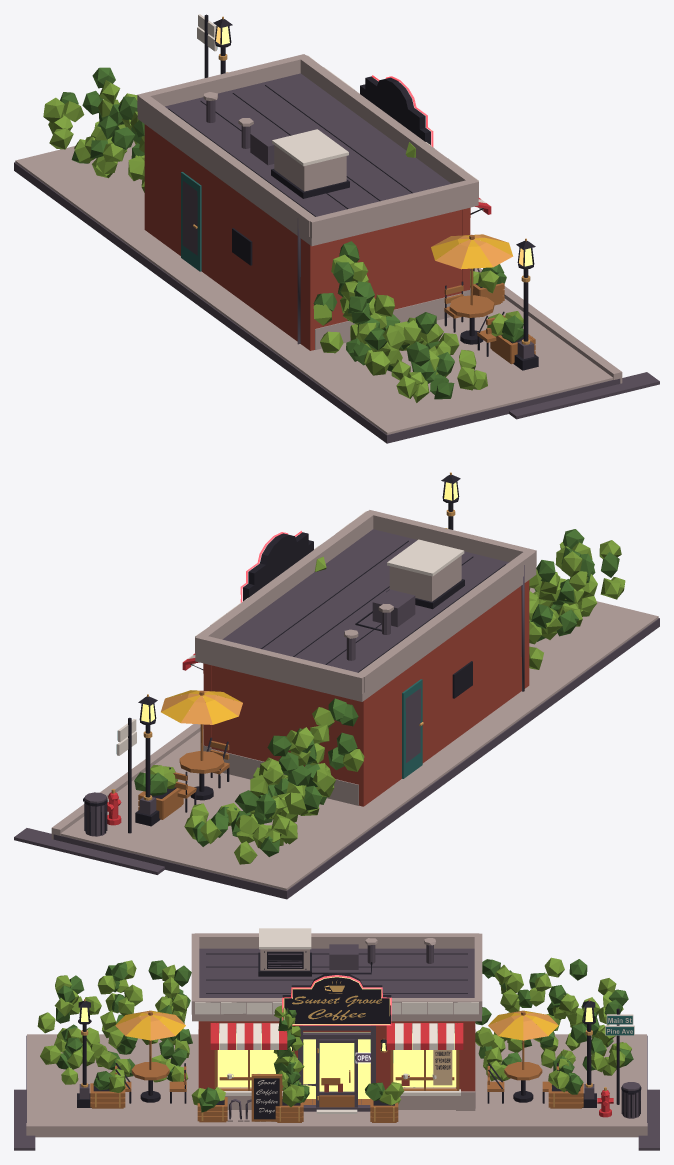
3 views of the same model, one above another, from view 1: azimuth 30°, elevation 25°; view 2: azimuth 150°, elevation 25°; view 3: azimuth 270°, elevation 25° (orthographic). The views are drawn at different scales.
Parts seen in each view (by area): view 1: body_pal_sidewalk, body_pal_brick, roof_pal_sidewalk, roof_pal_asphalt, body_pal_foliage, body_pal_asphalt, body_pal_foliageDark, roof_pal_uiDark, body_pal_uiDark, body_pal_woodWarm, roof_pal_picketWhite, body_pal_orange (+2 smaller); view 2: body_pal_sidewalk, body_pal_brick, roof_pal_sidewalk, roof_pal_asphalt, body_pal_foliage, body_pal_asphalt, body_pal_foliageDark, body_pal_uiDark, roof_pal_uiDark, body_pal_woodWarm, roof_pal_picketWhite, body_pal_schoolBusYellow (+2 smaller); view 3: body_pal_sidewalk, body_pal_foliage, roof_pal_asphalt, body_pal_foliageDark, roof_pal_sidewalk, roof_pal_uiDark, body_pal_woodWarm, body_pal_asphalt, body_pal_uiDark, body_pal_brick, body_pal_picketWhite, roof_pal_picketWhite (+15 smaller).
Boxes of the visible parts, x1,y1,x2,y2 form: body_pal_sidewalk: (15,140,622,434); body_pal_brick: (144,124,470,350); roof_pal_sidewalk: (137,54,478,246); roof_pal_asphalt: (165,73,451,216); body_pal_foliage: (43,80,523,402); body_pal_asphalt: (14,162,659,443); body_pal_foliageDark: (60,67,523,399); roof_pal_uiDark: (168,76,430,216); body_pal_uiDark: (204,14,538,370); body_pal_woodWarm: (444,234,535,364); roof_pal_picketWhite: (272,55,478,181); body_pal_orange: (226,72,512,268); body_pal_sidewalk: (51,587,658,890); body_pal_brick: (203,580,529,806); roof_pal_sidewalk: (195,510,536,701); roof_pal_asphalt: (222,529,508,672); body_pal_foliage: (150,540,625,864); body_pal_asphalt: (14,565,659,899); body_pal_foliageDark: (134,529,619,856); body_pal_uiDark: (83,475,472,835); roof_pal_uiDark: (243,532,505,672); body_pal_woodWarm: (138,690,229,819); roof_pal_picketWhite: (195,511,464,637); body_pal_schoolBusYellow: (161,528,447,724); body_pal_sidewalk: (26,1029,647,1137); body_pal_foliage: (37,957,631,1106); roof_pal_asphalt: (199,944,474,997); body_pal_foliageDark: (56,959,633,1112); roof_pal_sidewalk: (191,933,482,1021); roof_pal_uiDark: (206,951,467,1023); body_pal_woodWarm: (90,1011,583,1122); body_pal_asphalt: (14,1025,659,1150); body_pal_uiDark: (77,1001,641,1119); body_pal_brick: (198,1021,475,1091); body_pal_picketWhite: (219,1014,634,1113); roof_pal_picketWhite: (195,928,478,1014).
Bounding box in the file's own units: 7.4 × 4.76 × 18.72.
